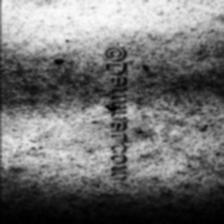Unclassified: (0, 49, 105, 175), (129, 54, 224, 176)
